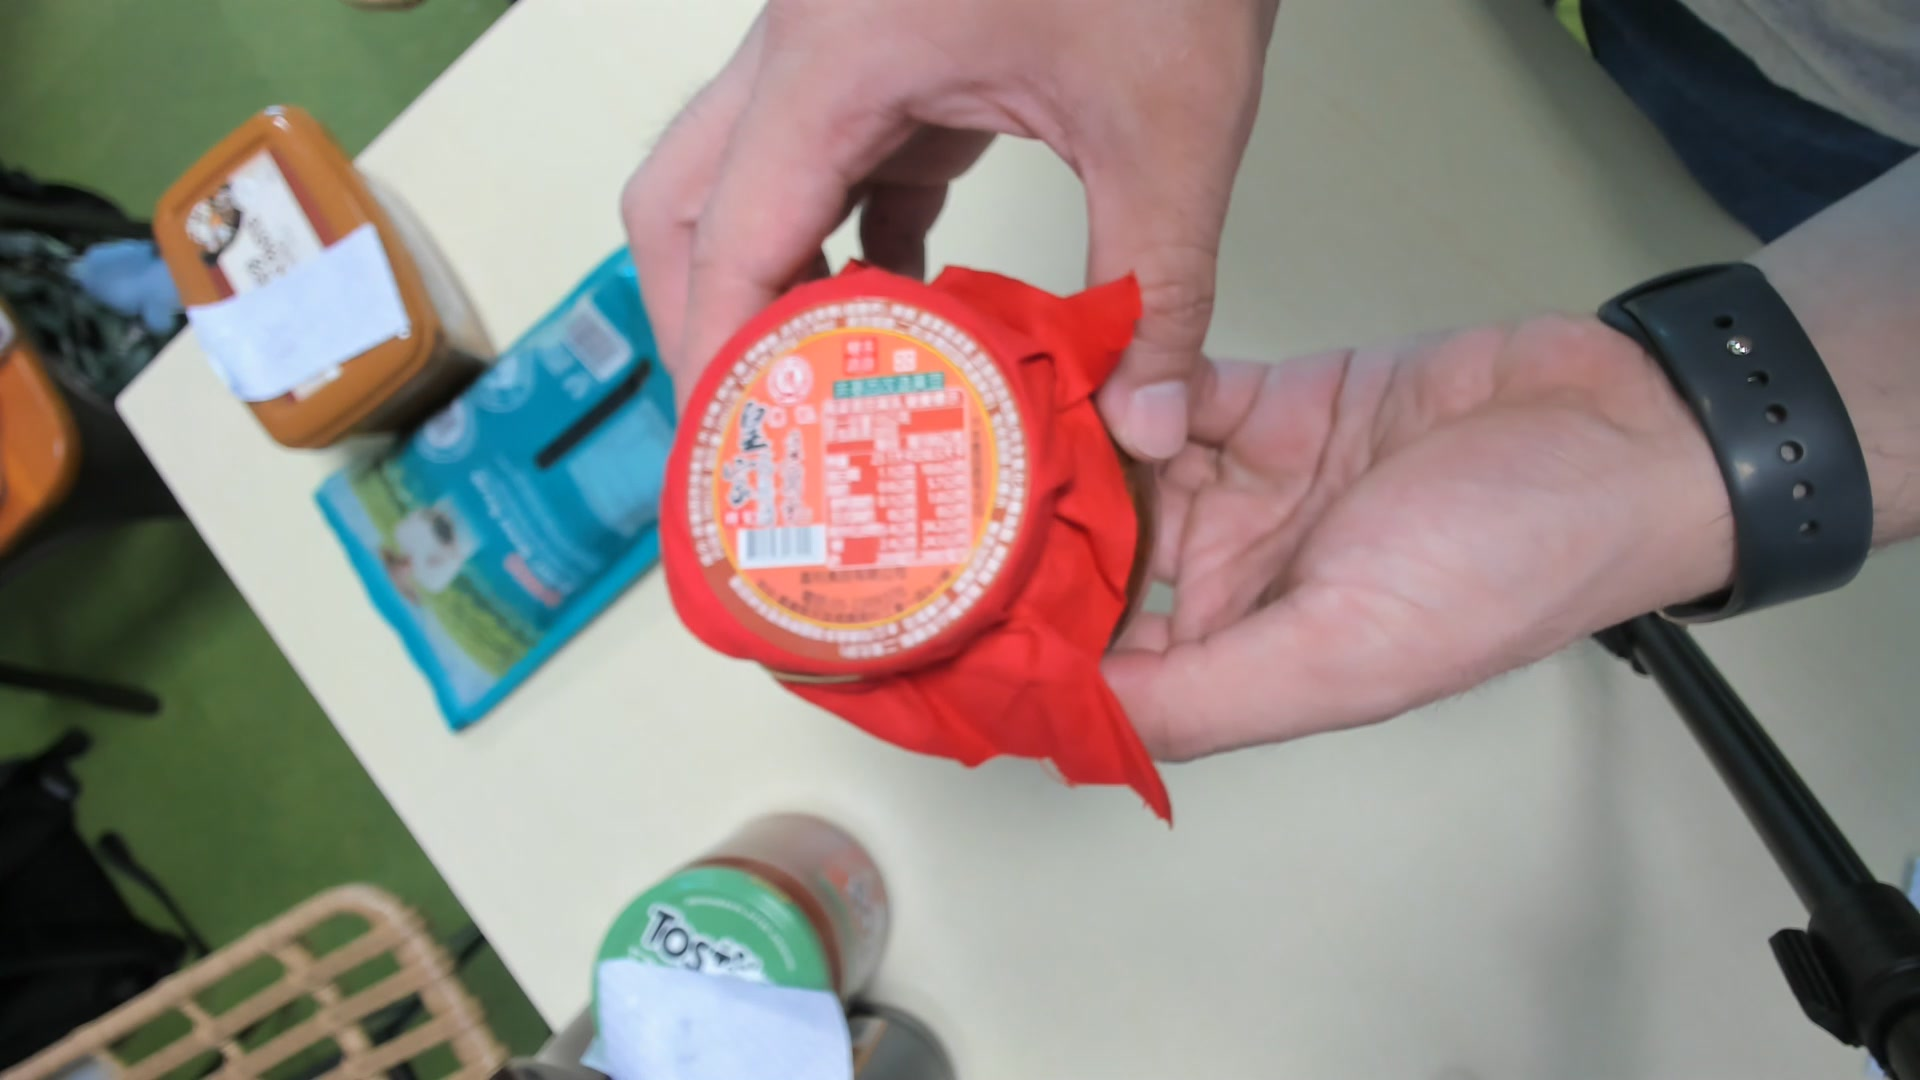OtherSauceDressing_300-399g_NonHalal_NonHealthy: (680, 255, 1167, 815)
